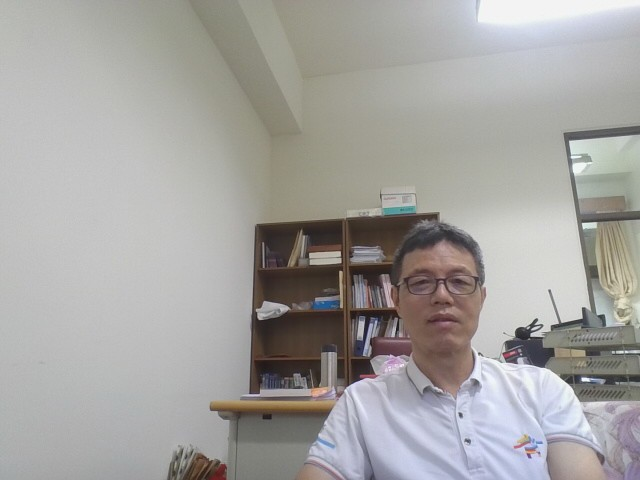No_Helmet: (387, 216, 488, 370)
person: (259, 199, 632, 480)
